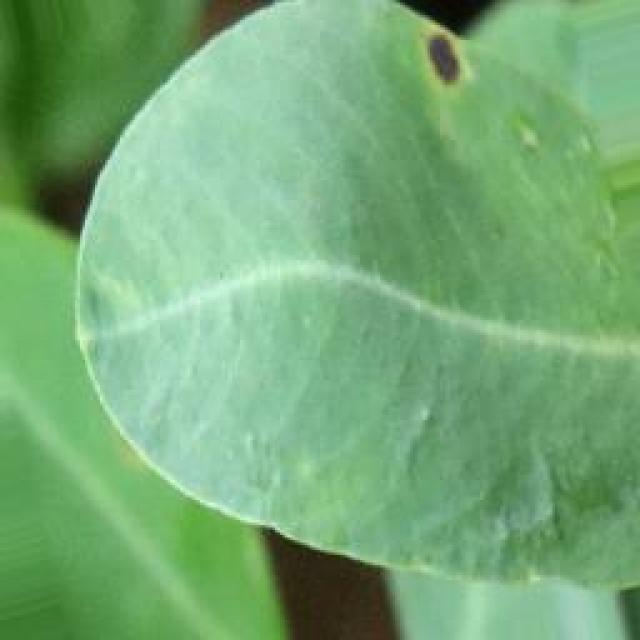Sigatoka: (390, 2, 489, 119)
